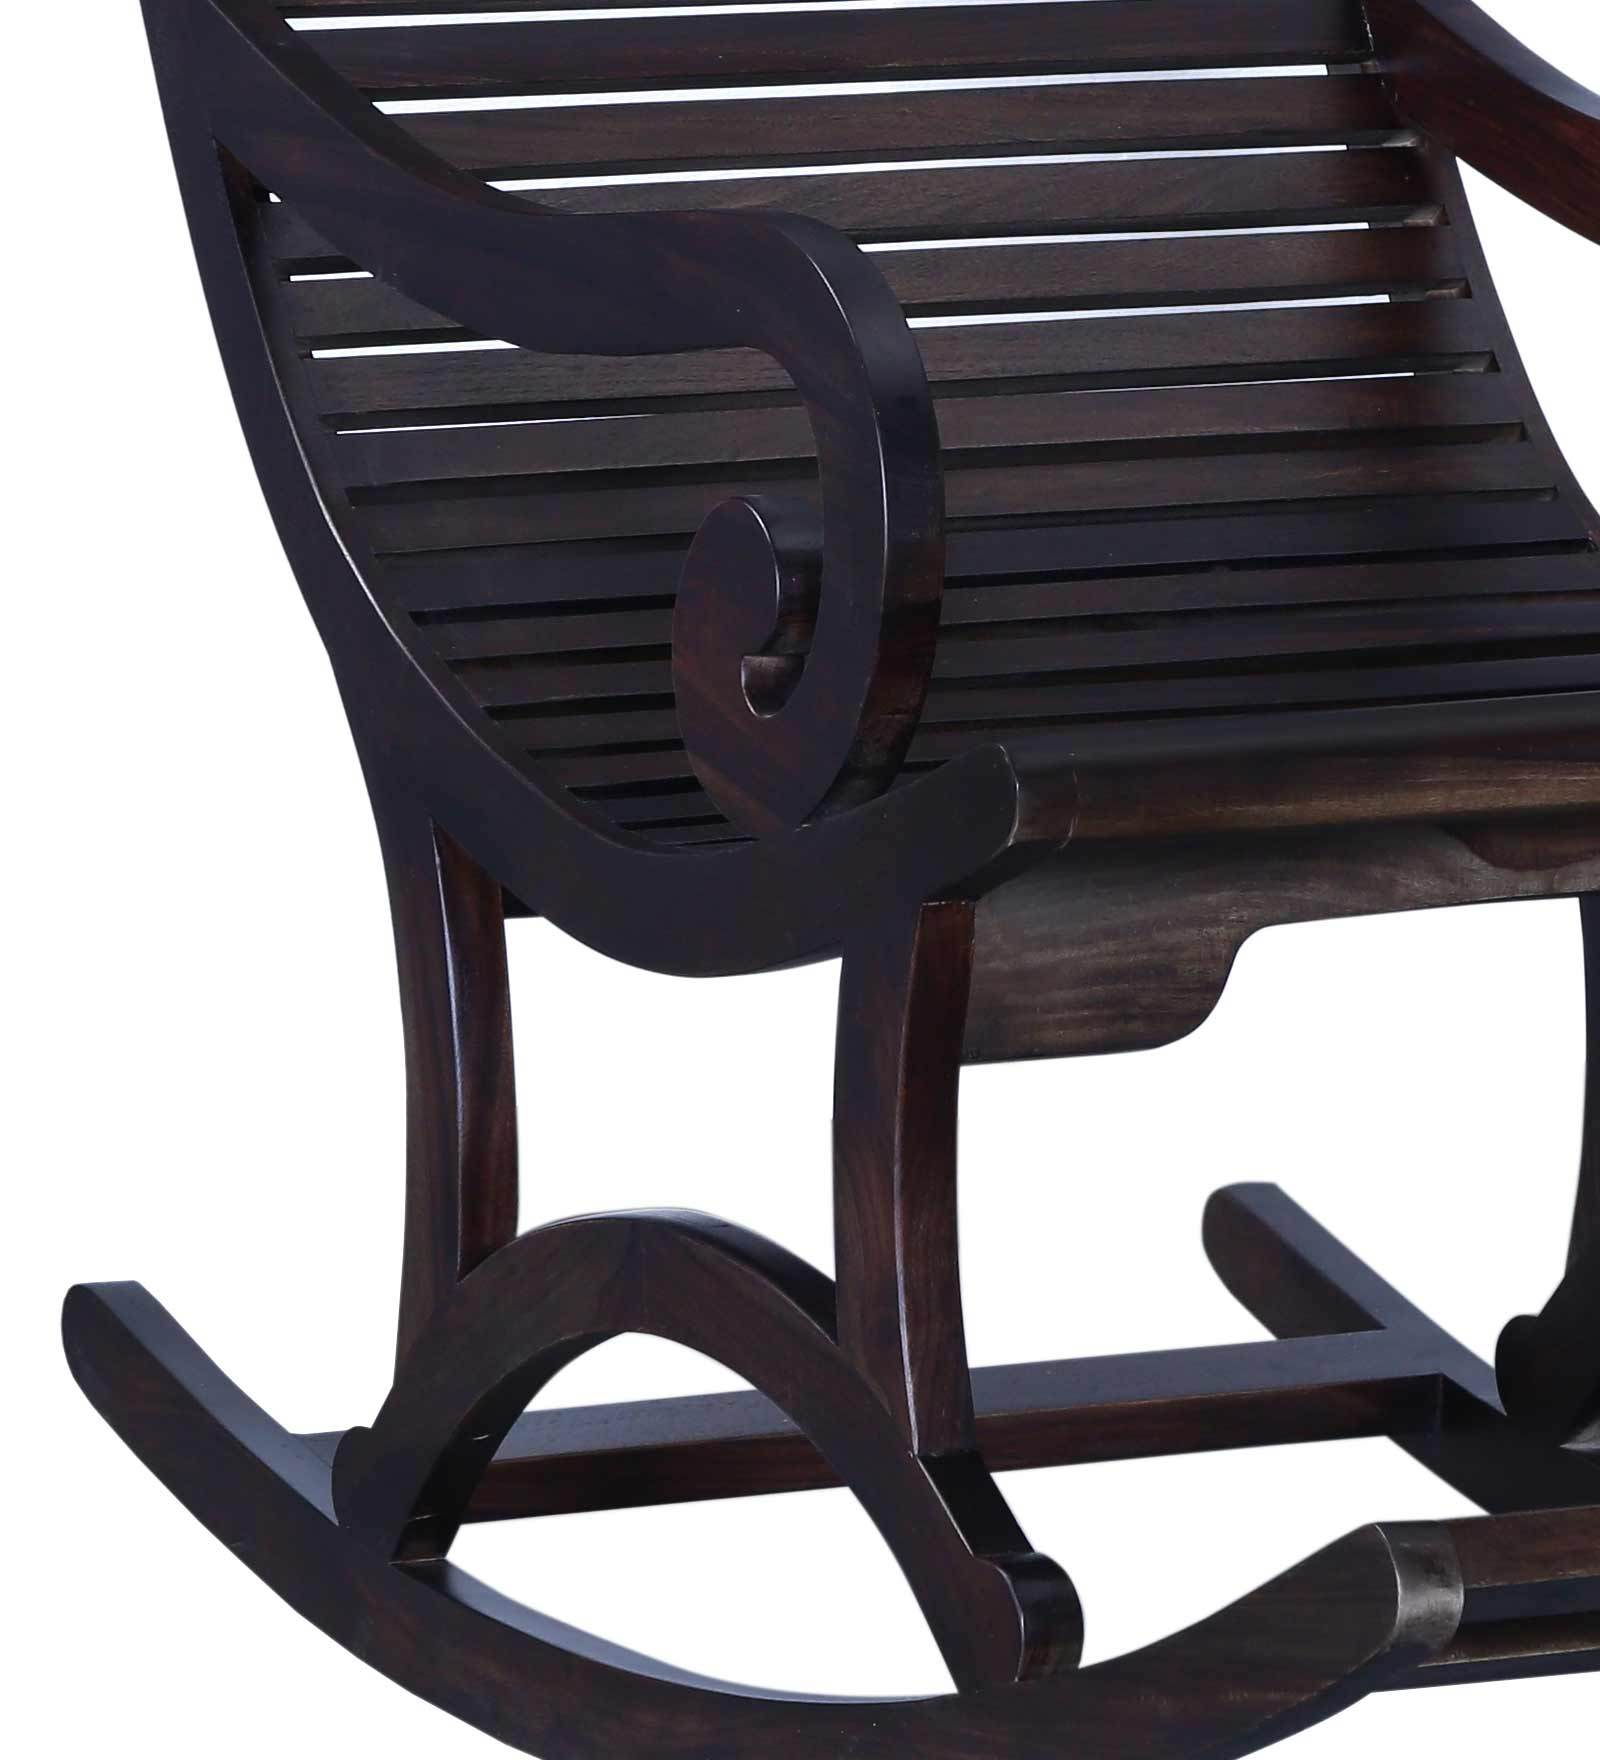Wellesley Rocking Chair in Warm Chestnut Finish by Amberville: (116, 5, 1551, 1712)
